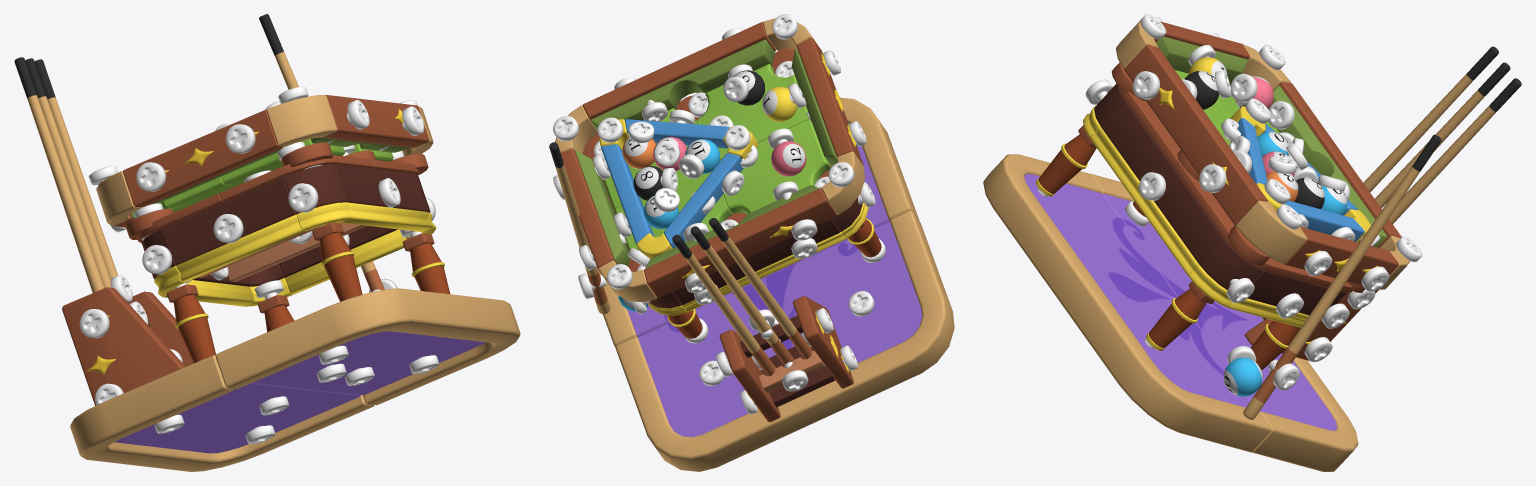
Rendered from PoolTable.fbx.
3 views of the same model, side by side, from view 1: azimuth 30°, elevation 25°; view 2: azimuth 150°, elevation 25°; view 3: azimuth 270°, elevation 25° (orthographic). The views are drawn at different scales.
Visible parts, largest first — view 1: Board_PoolTable_8, Board_PoolTable_26, Board_PoolTable_36, Board_PoolTable_22, Board_PoolTable_47, Screw (×7), Board_PoolTable_57, Board_PoolTable_55, Board_PoolTable_49, Board_PoolTable_24, Board_PoolTable_51, Board_PoolTable_61 (+19 smaller); view 2: Board_PoolTable_26, Screw (×18), Board_PoolTable_8, Board_PoolTable_6, Board_PoolTable_33, Board_PoolTable_49, Board_PoolTable_43, Board_PoolTable_54, Board_PoolTable_53, Board_PoolTable_47, Board_PoolTable_22, Board_PoolTable_1 (+32 smaller); view 3: Board_PoolTable_8, Board_PoolTable_26, Board_PoolTable_57, Board_PoolTable_49, Board_PoolTable_56, Screw (×6), Board_PoolTable_55, Board_PoolTable_1, Board_PoolTable_41, Board_PoolTable_52, Board_PoolTable_58, Board_PoolTable_6 (+22 smaller).
Part boxes in pixels (<box>): Board_PoolTable_8: <box>216,288,520,405</box>; Board_PoolTable_26: <box>70,355,374,471</box>; Board_PoolTable_36: <box>164,177,305,281</box>; Board_PoolTable_22: <box>62,287,185,405</box>; Board_PoolTable_47: <box>123,110,282,206</box>; Screw (×7): <box>79,100,369,338</box>; Board_PoolTable_57: <box>333,164,432,231</box>; Board_PoolTable_55: <box>279,226,406,294</box>; Board_PoolTable_49: <box>323,95,429,147</box>; Board_PoolTable_24: <box>14,57,104,292</box>; Board_PoolTable_51: <box>266,95,337,146</box>; Board_PoolTable_61: <box>284,164,351,231</box>; Board_PoolTable_26: <box>615,210,954,471</box>; Screw (×18): <box>553,14,874,391</box>; Board_PoolTable_8: <box>598,97,919,347</box>; Board_PoolTable_6: <box>644,188,837,298</box>; Board_PoolTable_33: <box>719,119,830,213</box>; Board_PoolTable_49: <box>582,22,775,119</box>; Board_PoolTable_43: <box>590,39,775,129</box>; Board_PoolTable_54: <box>696,64,808,159</box>; Board_PoolTable_53: <box>673,219,845,312</box>; Board_PoolTable_47: <box>796,37,863,164</box>; Board_PoolTable_22: <box>793,296,853,388</box>; Board_PoolTable_1: <box>560,149,617,268</box>; Board_PoolTable_8: <box>983,154,1271,452</box>; Board_PoolTable_26: <box>1091,174,1358,471</box>; Board_PoolTable_57: <box>1090,100,1223,275</box>; Board_PoolTable_49: <box>1124,44,1267,225</box>; Board_PoolTable_56: <box>1243,134,1441,419</box>; Screw (×6): <box>1132,71,1299,390</box>; Board_PoolTable_55: <box>1229,270,1340,327</box>; Board_PoolTable_1: <box>1284,226,1398,285</box>; Board_PoolTable_41: <box>1174,162,1309,281</box>; Board_PoolTable_52: <box>1236,200,1306,263</box>; Board_PoolTable_58: <box>1188,238,1263,307</box>; Board_PoolTable_6: <box>1273,82,1401,248</box>.
Bounding box in the file's own units: 11.18 × 11.61 × 12.91.
Materials: 4 (3 with a texture image).
